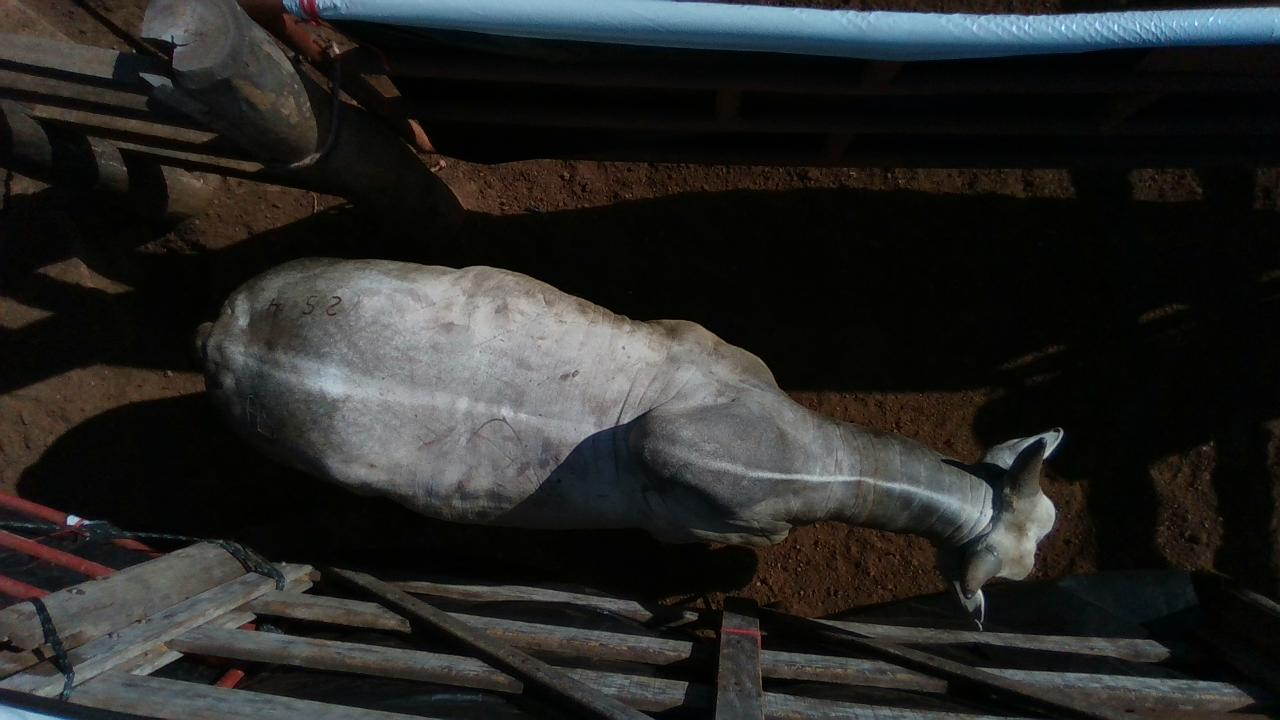cattle: (193, 253, 1065, 629)
